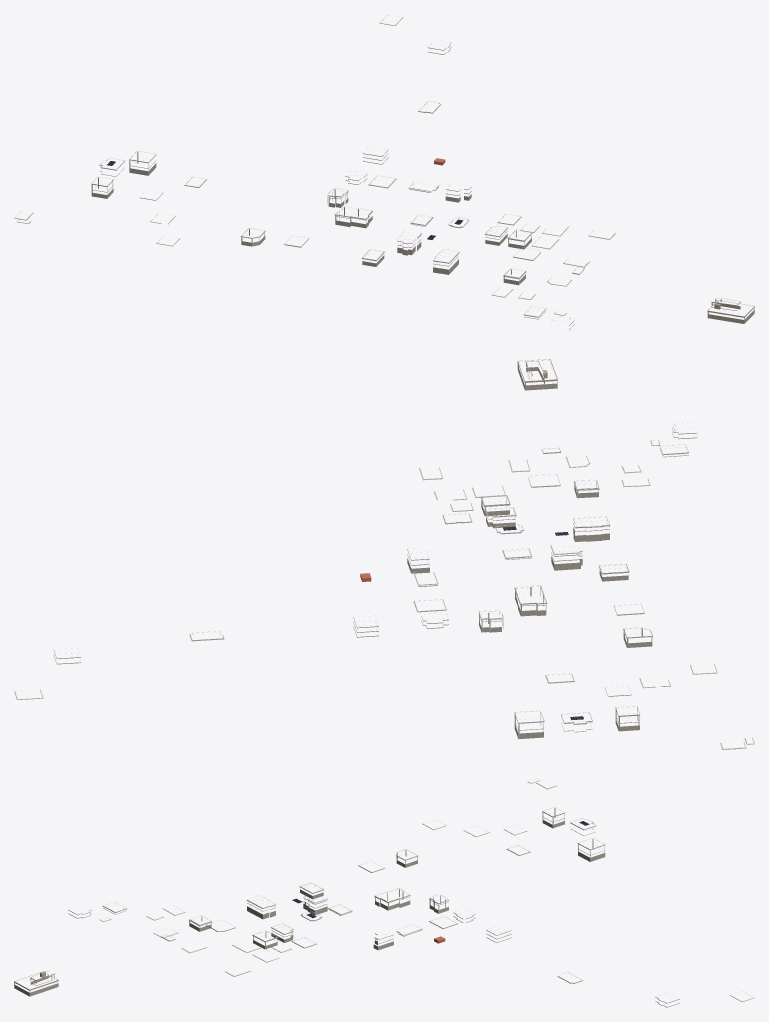
3 views of the same model, one above another, from view 1: azimuth 30°, elevation 25°; view 2: azimuth 150°, elevation 25°; view 3: azimuth 270°, elevation 25° (orthographic). The views are drawn at different scales.
Parts seen in each view (by area): view 1: detail; view 2: detail; view 3: detail.
Boxes of the visible parts, <box> form: detail: <box>14,15,754,329</box>; detail: <box>14,359,754,749</box>; detail: <box>14,778,754,1007</box>.
Size of the model in its own units: 357 by 13.39 by 487.
